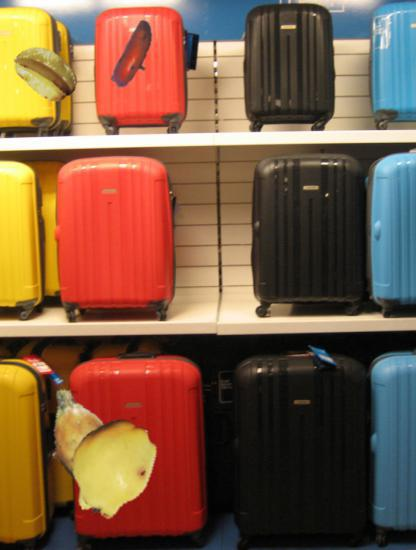Banana: (100, 20, 173, 93)
Cactus: (27, 384, 131, 488)
Carambula: (14, 40, 80, 106)
Quince: (59, 416, 162, 519)
